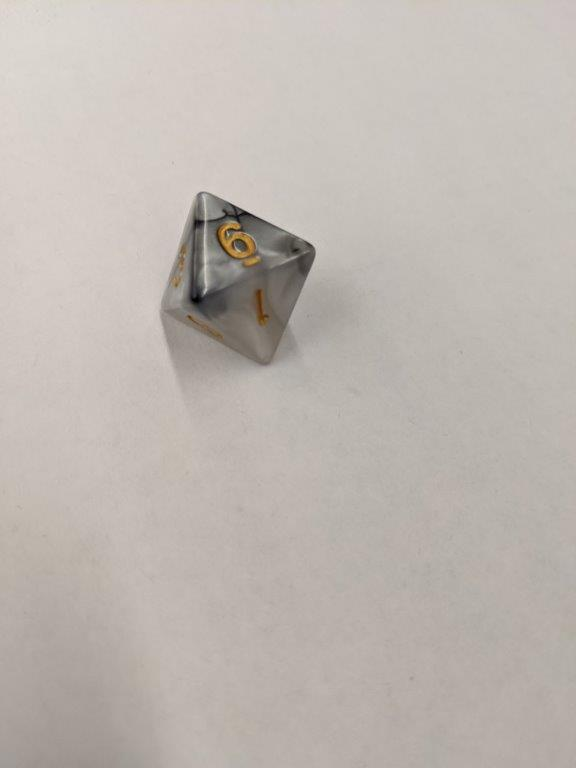d8-6: (156, 189, 322, 366)
